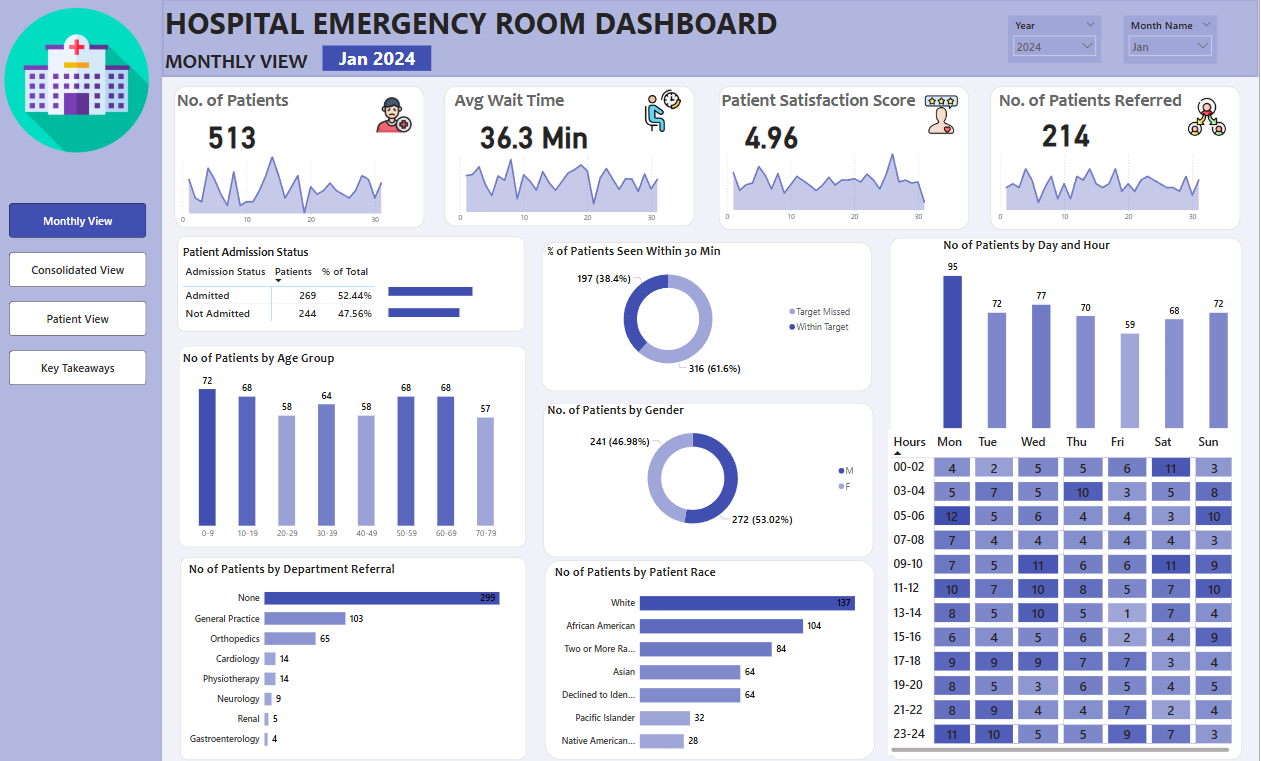

The dashboard page shown, as its layout file describes it:
{"tool":"powerbi","page":{"name":"Monthly View","canvas":[2300,1400],"ordinal":0},"visuals":[{"type":"shape","box":[332.3,158.1,454.8,258.1],"z":0},{"type":"shape","box":[0,0,310.2,1401.2],"z":1000},{"type":"shape","box":[309.4,3.1,1991,140.6],"z":2000},{"type":"textbox","box":[309.1,0,1657.6,115.2],"z":3000},{"type":"card","fields":{"Values":["Hospital ER_Data.No of Patients"]},"box":[360.6,201.5,148.5,84.8],"z":4000},{"type":"textbox","box":[310.3,84.6,289.7,56.4],"z":5000},{"type":"slicer","fields":{"Values":["Date Table.Year"]},"box":[1844.4,30.6,169.4,86.1],"z":6000},{"type":"slicer","fields":{"Values":["Date Table.Month Name"]},"box":[2055.6,30.6,170,87],"z":7000},{"type":"textbox","box":[331.4,157.1,302.9,74.3],"z":8000},{"type":"card","fields":{"Values":["Min(Date Table.Month & Year)"]},"box":[600,84.6,197.4,46.2],"z":9000},{"type":"areaChart","fields":{"Category":["Date Table.Date.Variation.Date Hierarchy.Day"],"Y":["Hospital ER_Data.No of Patients"]},"box":[331.4,271.4,437.1,145.7],"z":10000},{"type":"shape","box":[822.6,158.1,454.8,254.8],"z":11000},{"type":"card","fields":{"Values":["Hospital ER_Data.Avg Wait Time"]},"box":[866.7,201.5,233.3,84.8],"z":12000},{"type":"textbox","box":[834.3,157.1,302.9,60],"z":13000},{"type":"areaChart","fields":{"Category":["Date Table.Date.Variation.Date Hierarchy.Day"],"Y":["Avg(Hospital ER_Data.Patient Waittime)"]},"box":[834.3,268.6,434.3,145.7],"z":14000},{"type":"shape","box":[1319.4,158.1,454.8,261.3],"z":15000},{"type":"textbox","box":[1320,157.1,434.3,94.3],"z":16000},{"type":"areaChart","fields":{"Category":["Date Table.Date.Variation.Date Hierarchy.Day"],"Y":["Hospital ER_Data.Satisfaction Score"]},"box":[1320,265.7,434.3,145.7],"z":17000},{"type":"shape","box":[1812.9,158.1,454.8,261.3],"z":18000},{"type":"card","fields":{"Values":["Hospital ER_Data.No of Patients Referred"]},"box":[1875.7,197.9,148.5,84.8],"z":19000},{"type":"textbox","box":[1822.9,157.1,434.3,88.6],"z":20000},{"type":"areaChart","fields":{"Category":["Date Table.Date.Variation.Date Hierarchy.Day"],"Y":["Hospital ER_Data.No of Patients Referred"]},"box":[1814.3,265.7,437.1,145.7],"z":21000},{"type":"shape","box":[338.1,431,631,173.8],"z":22000},{"type":"card","fields":{"Values":["Hospital ER_Data.Satisfaction Score"]},"box":[1342.4,200,148.5,84.8],"z":23000},{"type":"pivotTable","title":"Patient Admission Status","fields":{"Rows":["Hospital ER_Data.Admission Status"],"Values":["Hospital ER_Data.No of Patients1","Hospital ER_Data.No of Patients"]},"box":[342.9,445.2,604.8,145.2],"z":24000},{"type":"barChart","fields":{"Category":["Hospital ER_Data.Admission Status"],"Y":["Hospital ER_Data.No of Patients Referred"]},"box":[716.7,490.5,207.1,114.3],"z":25000},{"type":"shape","box":[340.5,628.6,631,366.7],"z":26000},{"type":"clusteredColumnChart","fields":{"Category":["Hospital ER_Data.Age Group"],"Y":["Hospital ER_Data.No of Patients"]},"box":[342.9,635.7,604.8,352.4],"z":27000},{"type":"shape","box":[342.9,1011.9,628.6,369],"z":28000},{"type":"clusteredBarChart","fields":{"Category":["Hospital ER_Data.Department Referral"],"Y":["Hospital ER_Data.No of Patients"]},"box":[354.3,1020,605.7,354.3],"z":29000},{"type":"shape","box":[998.8,441.1,600,271.4],"z":30000},{"type":"donutChart","title":"% of Patients Seen Within 30 Min","fields":{"Category":["Hospital ER_Data.WaitTime Status"],"Y":["Hospital ER_Data.No of Patients"]},"box":[1002.9,442.9,568.6,245.7],"z":31000},{"type":"shape","box":[1000,731.2,600,281.2],"z":32000},{"type":"donutChart","title":"No. of Patients by Gender","fields":{"Category":["Hospital ER_Data.Patient Gender"],"Y":["Hospital ER_Data.No of Patients"]},"box":[1003.1,731.2,575,246.9],"z":33000},{"type":"shape","box":[1003.1,1018.8,600,362.5],"z":34000},{"type":"clusteredBarChart","fields":{"Y":["Hospital ER_Data.No of Patients"],"Category":["Hospital ER_Data.Patient Race"]},"box":[1018.8,1025,584.4,356.2],"z":35000},{"type":"shape","box":[1628.6,431.4,640,948.6],"z":36000},{"type":"pivotTable","fields":{"Rows":["Hospital ER_Data.WaitTime Interval"],"Columns":["Date Table.Day Name"],"Values":["Hospital ER_Data.No of Patients"]},"box":[1628.1,781.2,628.1,590.6],"z":37000},{"type":"columnChart","title":"No of Patients by Day and Hour","fields":{"Category":["Date Table.Day Name"],"Y":["Hospital ER_Data.No of Patients"]},"box":[1722.9,431.4,528.6,351.4],"z":38000},{"type":"image","box":[693,172.5,74.4,77.3],"z":39000},{"type":"image","box":[1678.9,169.3,89.5,81.6],"z":40000},{"type":"image","box":[1171.1,157.9,97.4,89.5],"z":41000},{"type":"image","box":[2139.5,172.8,134.2,78.9],"z":42000},{"type":"pageNavigator","box":[32.7,368.8,249.8,330.1],"z":44000},{"type":"image","box":[16.3,10.9,277.5,272.1],"z":44001}]}

Visuals, with their boxes in screenshot pixels (x1, y1, x2, y2), scaled from the page's 2300x1400 canvas onto the 1261x761 screenshot:
shape: (182, 86, 432, 226)
shape: (0, 0, 170, 760)
shape: (170, 2, 1260, 78)
textbox: (169, 0, 1078, 63)
card - Hospital ER_Data.No of Patients: (198, 110, 279, 156)
textbox: (170, 46, 329, 77)
slicer - Date Table.Year: (1011, 17, 1104, 63)
slicer - Date Table.Month Name: (1127, 17, 1220, 64)
textbox: (182, 85, 348, 126)
card - Min(Date Table.Month & Year): (329, 46, 437, 71)
areaChart - Date Table.Date.Variation.Date Hierarchy.Day x Hospital ER_Data.No of Patients: (182, 148, 421, 227)
shape: (451, 86, 700, 224)
card - Hospital ER_Data.Avg Wait Time: (475, 110, 603, 156)
textbox: (457, 85, 623, 118)
areaChart - Date Table.Date.Variation.Date Hierarchy.Day x Avg(Hospital ER_Data.Patient Waittime): (457, 146, 696, 225)
shape: (723, 86, 973, 228)
textbox: (724, 85, 962, 137)
areaChart - Date Table.Date.Variation.Date Hierarchy.Day x Hospital ER_Data.Satisfaction Score: (724, 144, 962, 224)
shape: (994, 86, 1243, 228)
card - Hospital ER_Data.No of Patients Referred: (1028, 108, 1110, 154)
textbox: (999, 85, 1238, 134)
areaChart - Date Table.Date.Variation.Date Hierarchy.Day x Hospital ER_Data.No of Patients Referred: (995, 144, 1234, 224)
shape: (185, 234, 531, 329)
card - Hospital ER_Data.Satisfaction Score: (736, 109, 817, 155)
"Patient Admission Status" pivotTable: (188, 242, 520, 321)
barChart - Hospital ER_Data.Admission Status x Hospital ER_Data.No of Patients Referred: (393, 267, 506, 329)
shape: (187, 342, 533, 541)
clusteredColumnChart - Hospital ER_Data.Age Group x Hospital ER_Data.No of Patients: (188, 346, 520, 537)
shape: (188, 550, 533, 751)
clusteredBarChart - Hospital ER_Data.Department Referral x Hospital ER_Data.No of Patients: (194, 554, 526, 747)
shape: (548, 240, 877, 387)
"% of Patients Seen Within 30 Min" donutChart: (550, 241, 862, 374)
shape: (548, 397, 877, 550)
"No. of Patients by Gender" donutChart: (550, 397, 865, 532)
shape: (550, 554, 879, 751)
clusteredBarChart - Hospital ER_Data.No of Patients x Hospital ER_Data.Patient Race: (559, 557, 879, 751)
shape: (893, 234, 1244, 750)
pivotTable - Hospital ER_Data.WaitTime Interval x Date Table.Day Name: (893, 425, 1237, 746)
"No of Patients by Day and Hour" columnChart: (945, 234, 1234, 426)
image: (380, 94, 421, 136)
image: (920, 92, 970, 136)
image: (642, 86, 695, 134)
image: (1173, 94, 1247, 137)
pageNavigator: (18, 200, 155, 380)
image: (9, 6, 161, 154)
